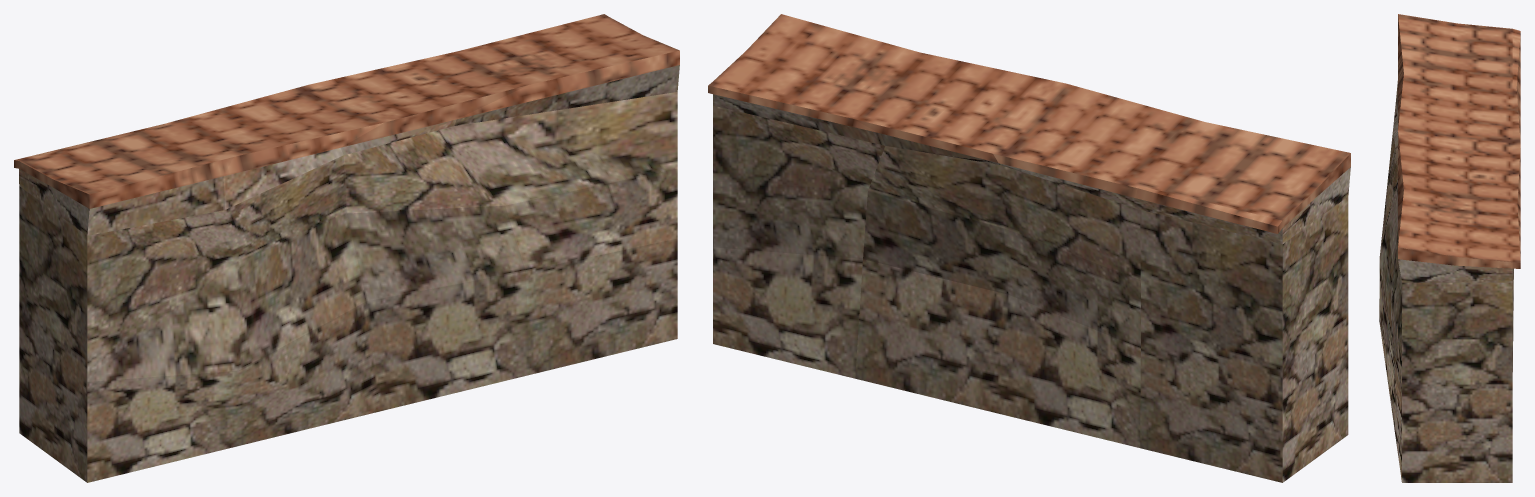
File: Urban_DrystoneWallTiles_Model.fbx
3 renders of one model, left to right at view 1: azimuth 30°, elevation 25°; view 2: azimuth 150°, elevation 25°; view 3: azimuth 270°, elevation 25°, orthographic. The views are drawn at different scales.
Visible parts, largest first — view 1: Urban_DrystoneWallTiles_Mesh; view 2: Urban_DrystoneWallTiles_Mesh; view 3: Urban_DrystoneWallTiles_Mesh.
Part boxes in pixels (x1,y1,x2,y2): Urban_DrystoneWallTiles_Mesh: [14, 14, 679, 482]; Urban_DrystoneWallTiles_Mesh: [708, 14, 1350, 482]; Urban_DrystoneWallTiles_Mesh: [1379, 14, 1520, 482].
Bounding box in the file's own units: 2.01 × 0.9398 × 0.5114.
